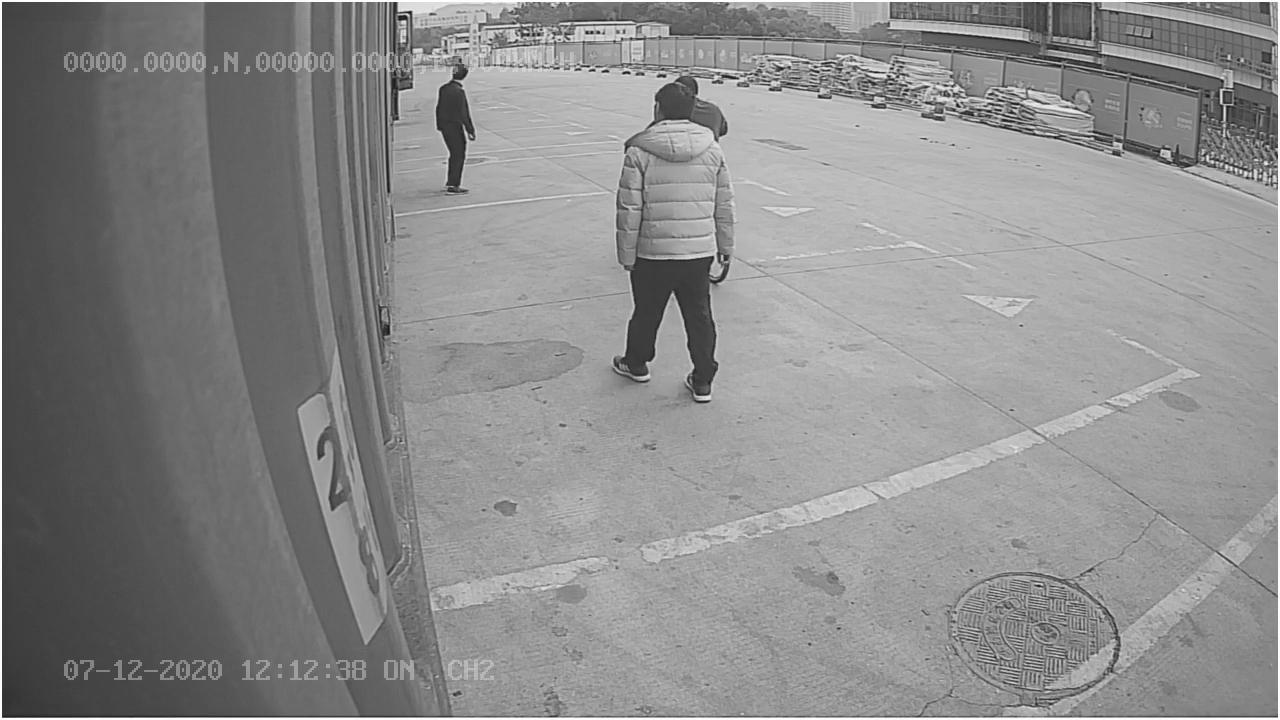person: (607, 84, 734, 406)
